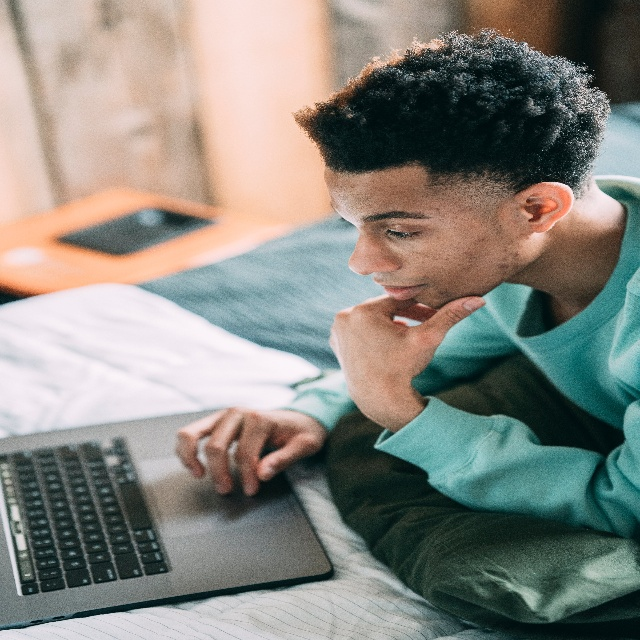Sin_guantes: (328, 292, 487, 427), (176, 406, 329, 499)
